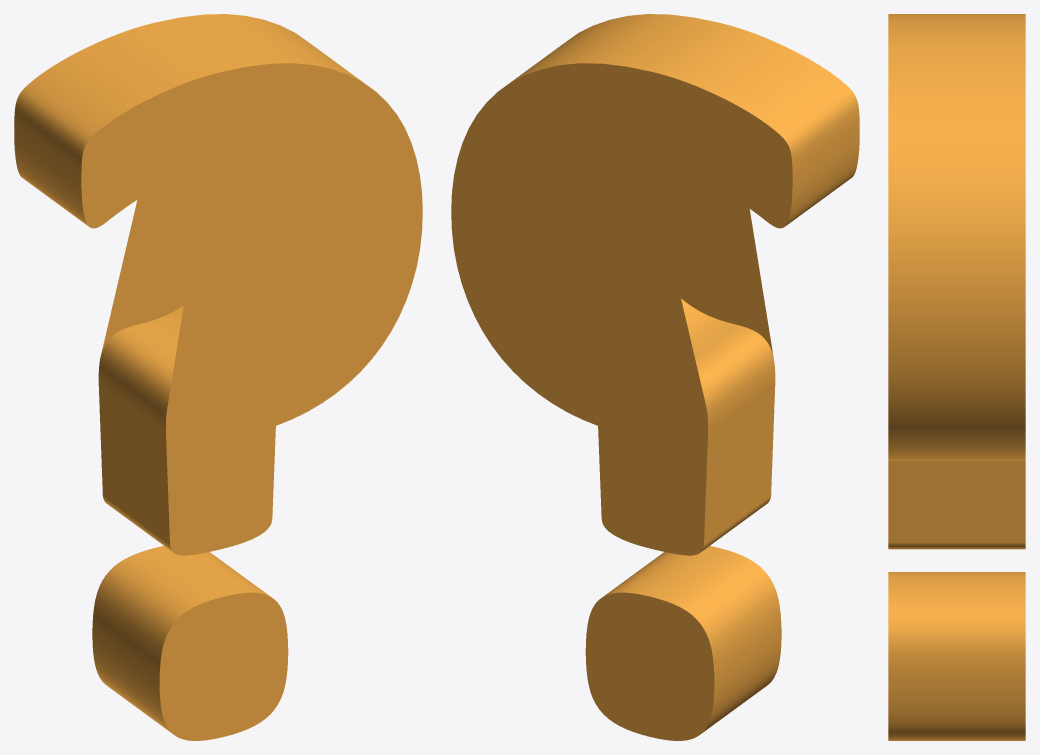
The model's file is Unknown.fbx.
The picture shows the model from 3 angles, left to right: view 1: azimuth 30°, elevation 25°; view 2: azimuth 150°, elevation 25°; view 3: azimuth 270°, elevation 25°; orthographic projection. The views are drawn at different scales.
Parts seen in each view (by area): view 1: Question1; view 2: Question1; view 3: Question1.
Part boxes in pixels (left/top/right/bottom): Question1: left=14, top=14, right=422, bottom=740; Question1: left=451, top=14, right=859, bottom=740; Question1: left=888, top=14, right=1025, bottom=740.
Bounding box in the file's own units: 7.33 × 13.66 × 2.5.
